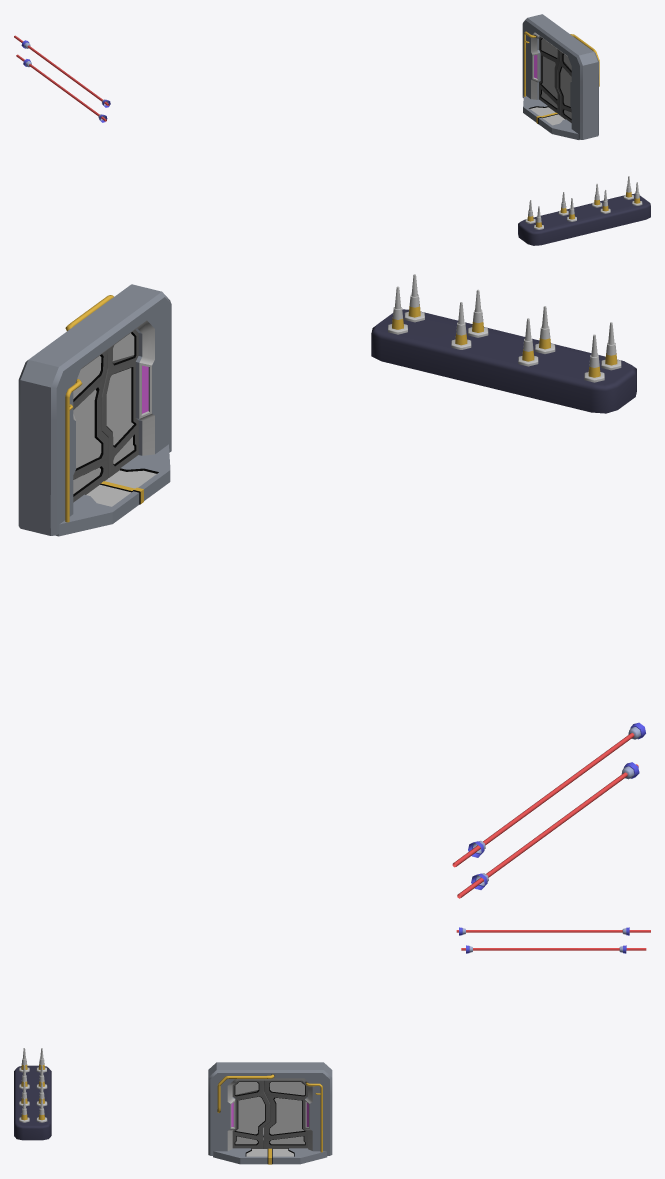
The model's file is Level26_Objects.fbx.
3 views of the same model, one above another, from view 1: azimuth 30°, elevation 25°; view 2: azimuth 150°, elevation 25°; view 3: azimuth 270°, elevation 25° (orthographic). The views are drawn at different scales.
Parts seen in each view (by area): view 1: Base (×2), Right, Base5, Left; view 2: Base (×2), Base5, Left, Right, Laser (×2); view 3: Base (×2), Right, Left, Base5, Laser (×2).
Boxes of the visible parts, <box> form: Base (×2): <box>518,14,650,245</box>; Right: <box>539,37,560,115</box>; Base5: <box>523,96,580,139</box>; Left: <box>557,51,571,122</box>; Base (×2): <box>18,284,636,535</box>; Base5: <box>56,444,170,536</box>; Left: <box>101,329,138,477</box>; Right: <box>73,349,108,502</box>; Laser (×2): <box>452,733,638,898</box>; Base (×2): <box>14,1062,332,1155</box>; Right: <box>263,1080,307,1148</box>; Left: <box>232,1080,270,1148</box>; Base5: <box>213,1135,327,1164</box>; Laser (×2): <box>456,930,650,950</box>.
Bounding box in the file's own units: 206 × 43.18 × 280.
